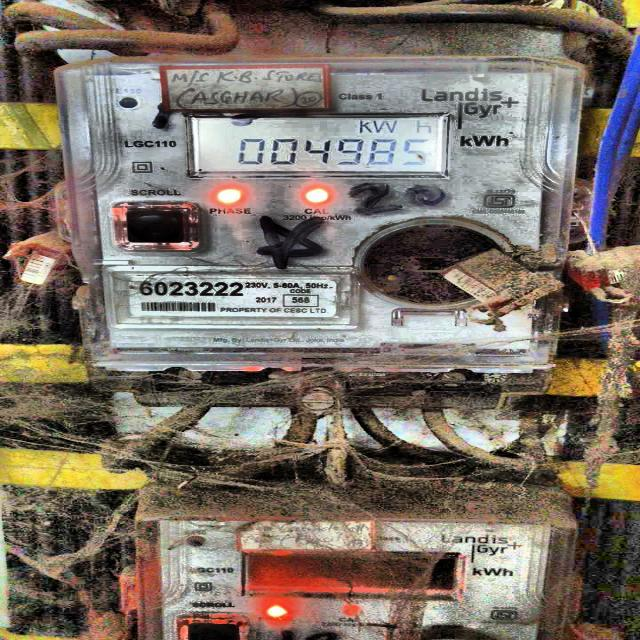Digital: (60, 67, 583, 382)
Reading: (224, 136, 437, 171)
Serial No.: (139, 280, 244, 297)
